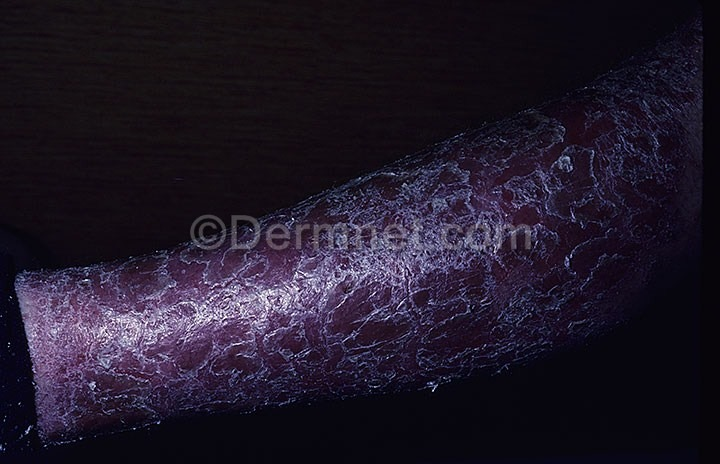Psoriasis: (333, 197, 565, 357), (36, 283, 339, 395), (546, 73, 700, 209)
